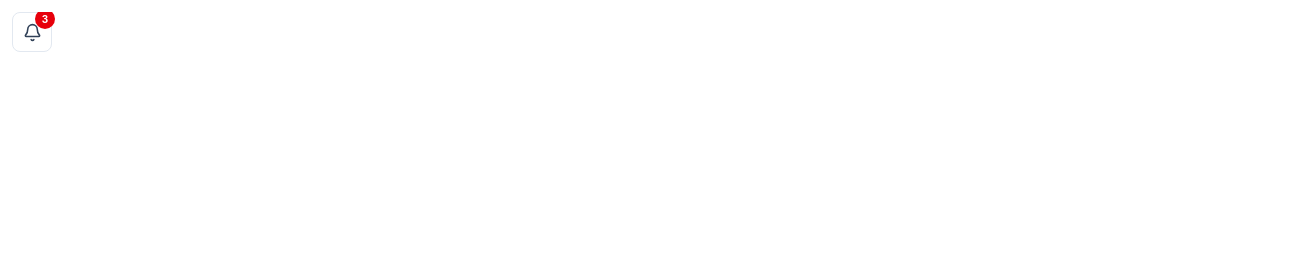
Test: NotificationBell › shows unread count and opens the dropdown
The width and height of the screenshot is (1292, 278).
Click the button named "notifications, 3 unread" at [32, 32], box [12,12,52,52]
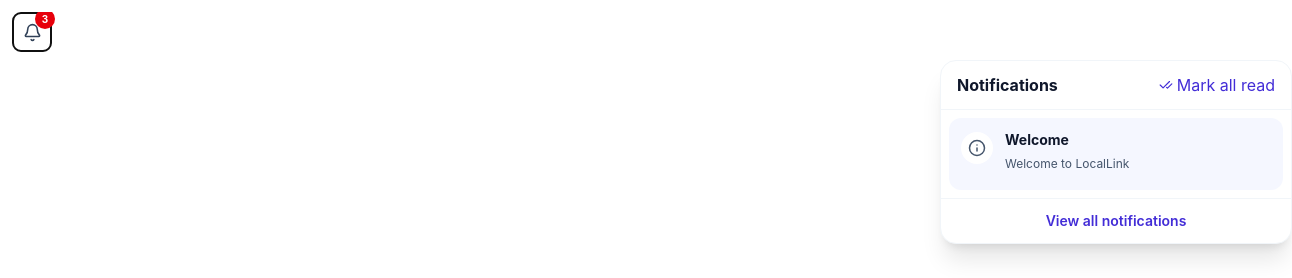
Expected: the text "Welcome" is shown, [1005,131,1069,148]
